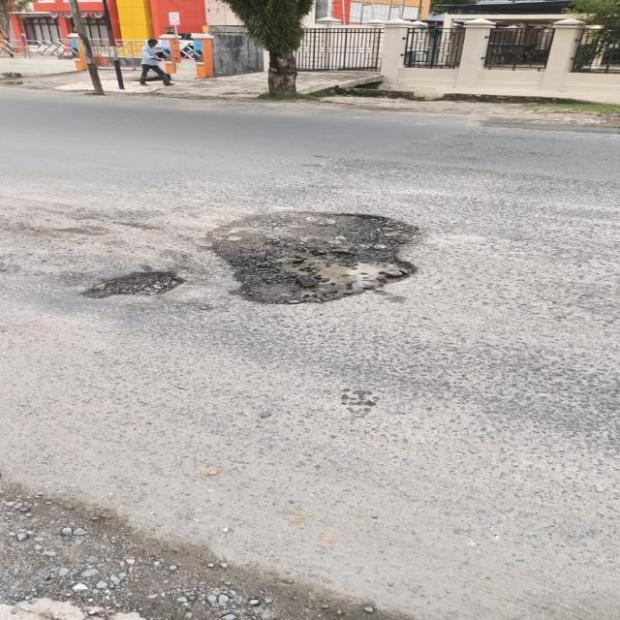lubang: (206, 212, 418, 303), (83, 271, 184, 297)
